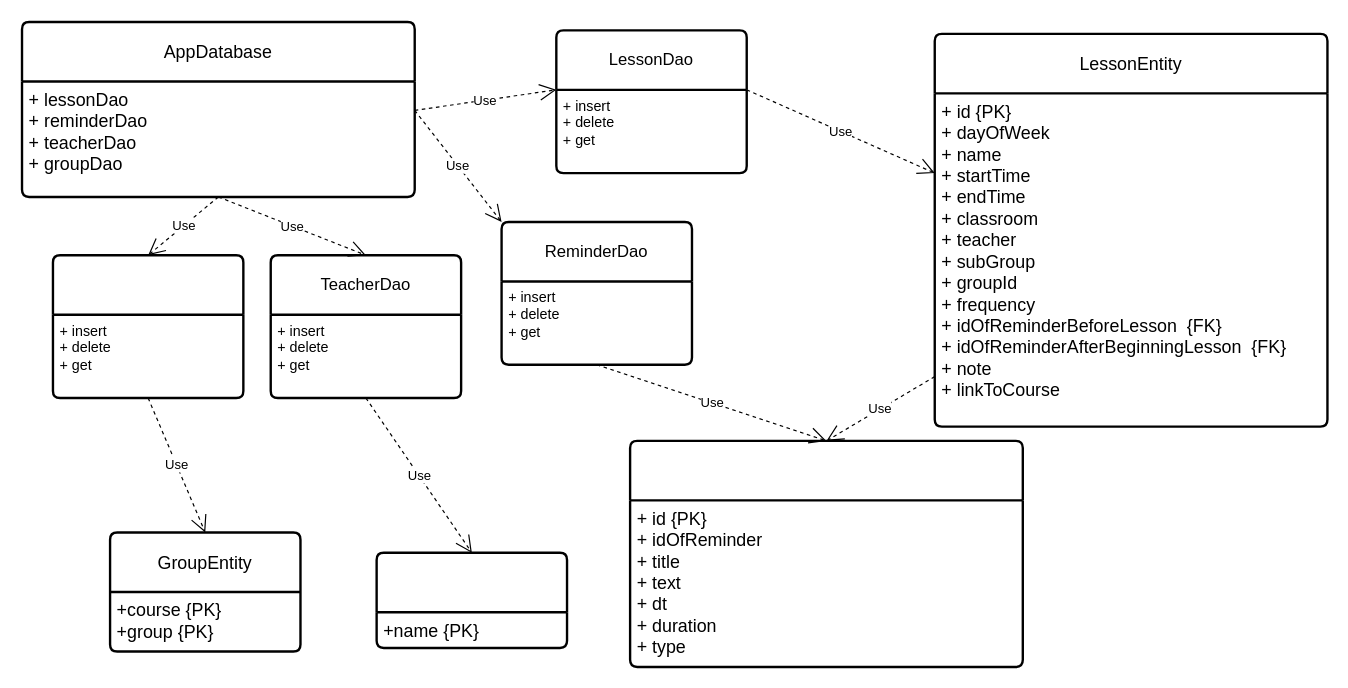
The diagram is 1348 pixels wide and 688 high, and some of its shapes have lost their labels. The shapes that lost their labels are listed below. From the top down, each one's box as (x1, y1, x2, y2) in pixels, then its label:
(51, 253, 244, 399): GroupDao
(628, 439, 1023, 668): ReminderEntity
(375, 551, 568, 649): TeacherEntity
